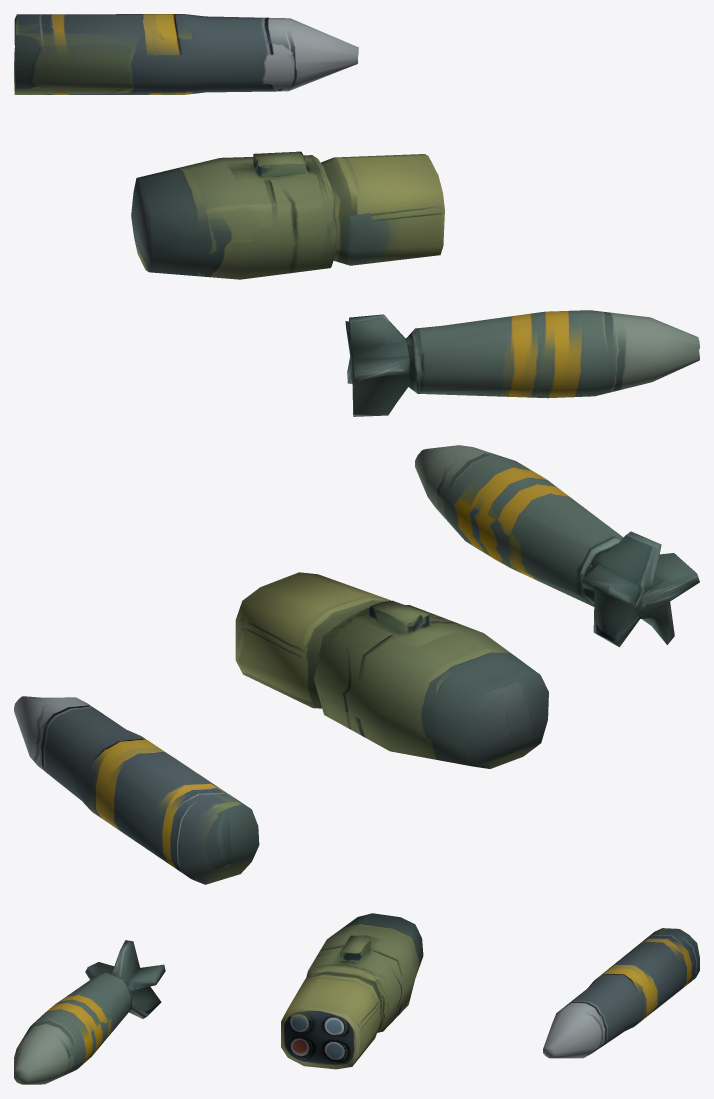
File: Bullet.glb
3 renders of one model, top to bottom at view 1: azimuth 30°, elevation 25°; view 2: azimuth 150°, elevation 25°; view 3: azimuth 270°, elevation 25°, orthographic. The views are drawn at different scales.
Visible parts, largest first — view 1: tripo_part_4, tripo_part_3, tripo_part_0, tripo_part_2, tripo_part_1; view 2: tripo_part_3, tripo_part_4, tripo_part_0, tripo_part_2, tripo_part_1; view 3: tripo_part_4, tripo_part_2, tripo_part_0, tripo_part_3, tripo_part_1.
Boxes of the visible parts, bbox=[...] form: tripo_part_4: bbox=[14, 14, 358, 94]; tripo_part_3: bbox=[131, 151, 336, 279]; tripo_part_0: bbox=[407, 310, 699, 398]; tripo_part_2: bbox=[321, 154, 444, 265]; tripo_part_1: bbox=[345, 314, 418, 416]; tripo_part_3: bbox=[314, 600, 548, 768]; tripo_part_4: bbox=[14, 696, 259, 884]; tripo_part_0: bbox=[415, 445, 623, 606]; tripo_part_2: bbox=[235, 572, 390, 708]; tripo_part_1: bbox=[580, 531, 699, 647]; tripo_part_4: bbox=[543, 928, 699, 1058]; tripo_part_2: bbox=[281, 972, 380, 1069]; tripo_part_0: bbox=[14, 972, 131, 1084]; tripo_part_3: bbox=[306, 913, 423, 1032]; tripo_part_1: bbox=[85, 940, 165, 1018].
Bounding box in the file's own units: 0.4316 × 0.1543 × 0.998.
Materials: 5 (5 with a texture image).
